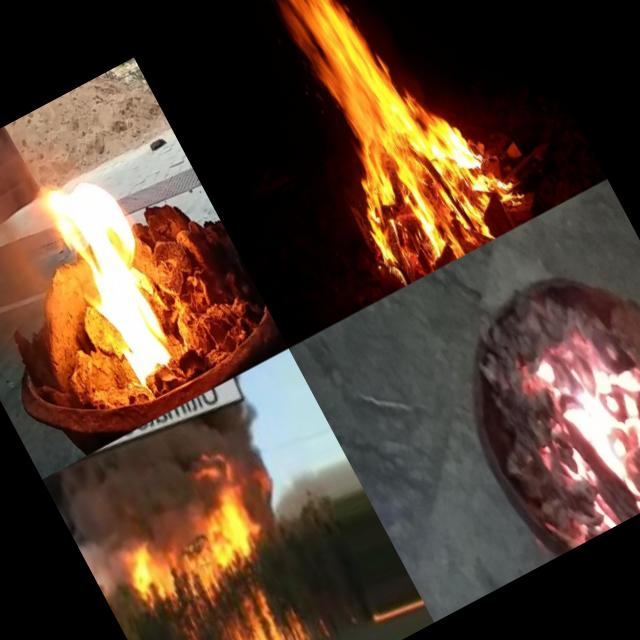fire: (244, 0, 528, 289), (17, 131, 208, 404), (480, 271, 640, 543), (96, 454, 277, 616), (147, 575, 314, 640)
smoke: (0, 129, 104, 388), (74, 390, 270, 523), (42, 466, 132, 606), (229, 436, 299, 520)
